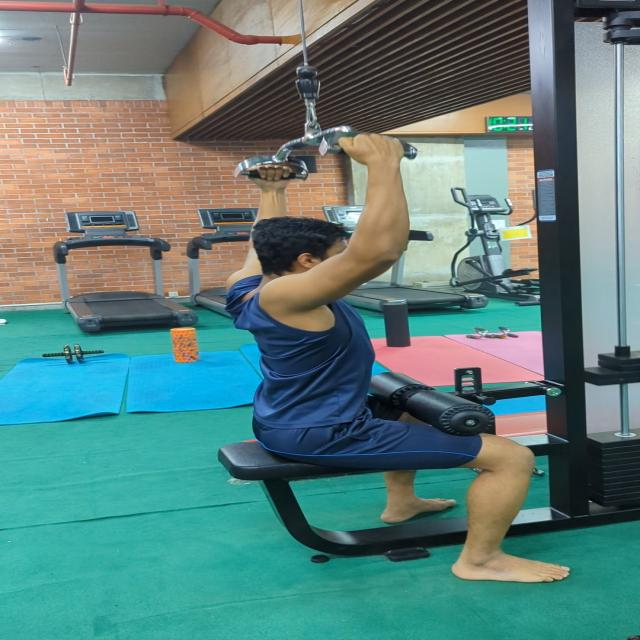Normal_LatPulldown: (210, 127, 587, 593)
